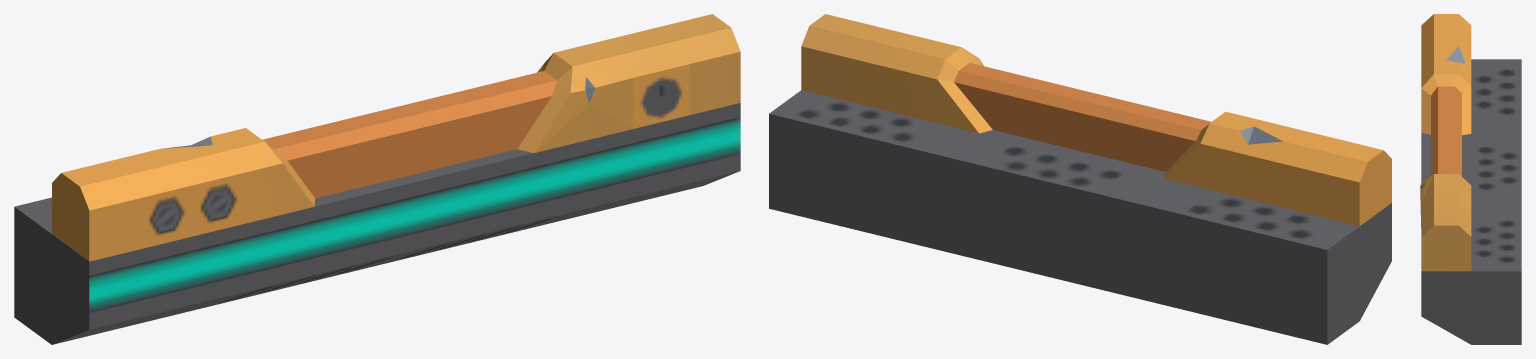
Rendered from SM_Bld_Railing_Straight_02.fbx.
3 views of the same model, side by side, from view 1: azimuth 30°, elevation 25°; view 2: azimuth 150°, elevation 25°; view 3: azimuth 270°, elevation 25° (orthographic). The views are drawn at different scales.
Parts seen in each view (by area): view 1: SM_Bld_Railing_Straight_02; view 2: SM_Bld_Railing_Straight_02; view 3: SM_Bld_Railing_Straight_02.
Boxes of the visible parts, left/top/right/bottom form: SM_Bld_Railing_Straight_02: left=14, top=14, right=740, bottom=344; SM_Bld_Railing_Straight_02: left=769, top=14, right=1391, bottom=344; SM_Bld_Railing_Straight_02: left=1420, top=14, right=1521, bottom=344.
Bounding box in the file's own units: 250 × 65.64 × 50.47.
